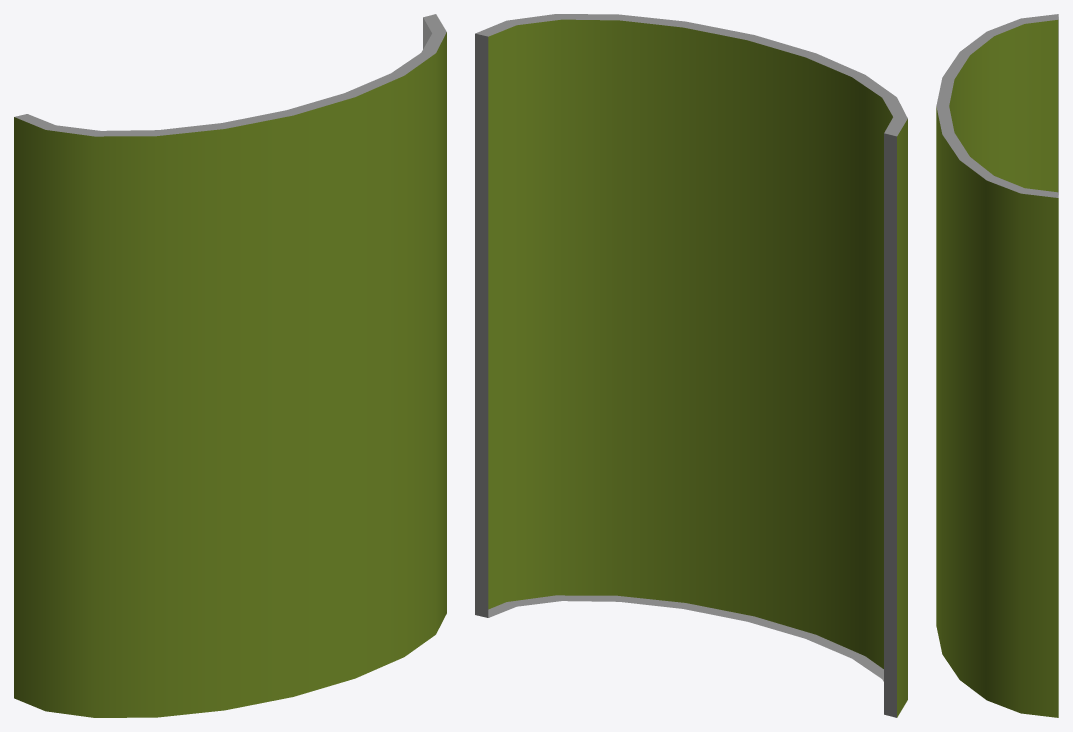
Rendered from advertis a sq.FBX.
The picture shows the model from 3 angles, left to right: view 1: azimuth 30°, elevation 25°; view 2: azimuth 150°, elevation 25°; view 3: azimuth 270°, elevation 25°; orthographic projection. The views are drawn at different scales.
Parts seen in each view (by area): view 1: Cylinder005; view 2: Cylinder005; view 3: Cylinder005.
Part boxes in pixels (box(x1,y1,x2,y2)): Cylinder005: box(14, 14, 446, 717); Cylinder005: box(475, 14, 907, 717); Cylinder005: box(936, 14, 1058, 717).
Bounding box in the file's own units: 6 × 7.9 × 1.68.
